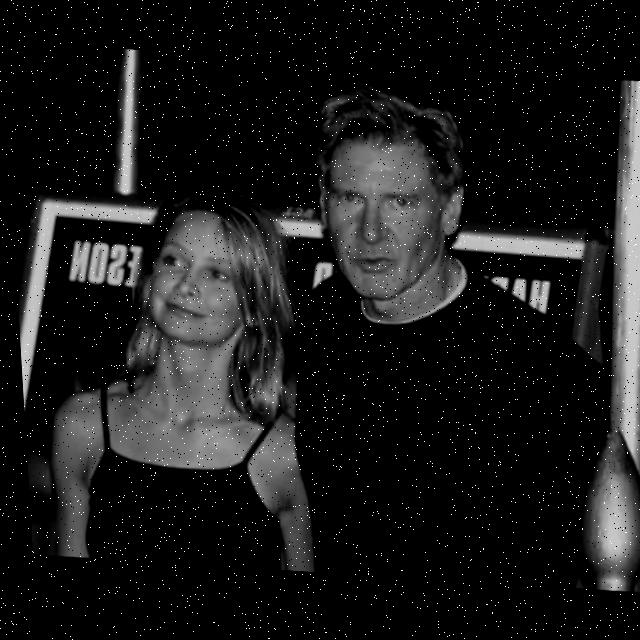face: (314, 107, 467, 310), (135, 198, 273, 357)
